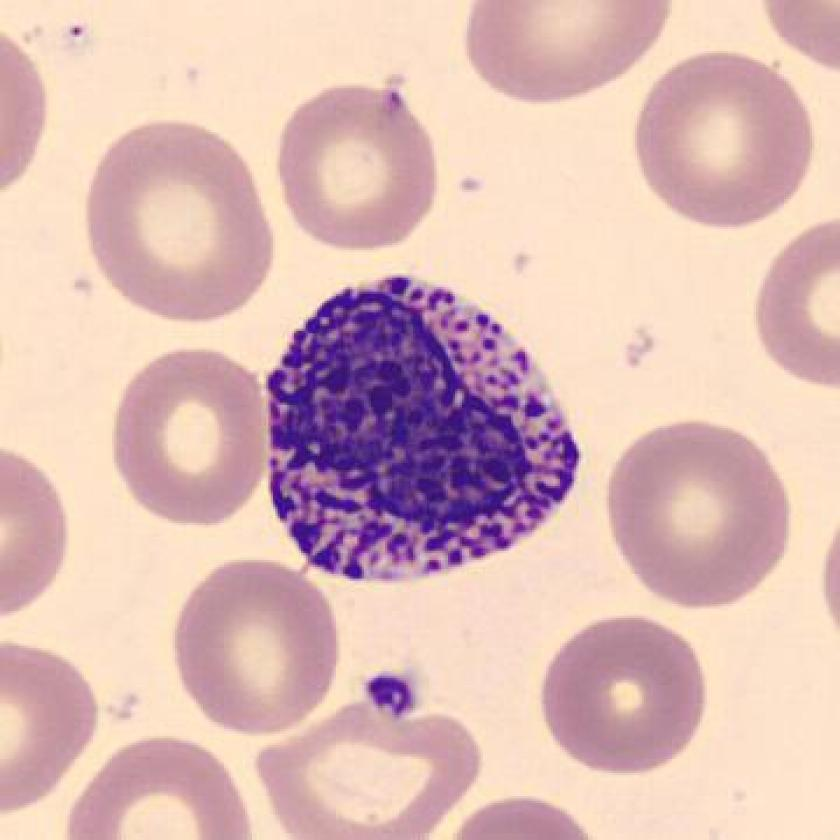basophil: (258, 269, 589, 596)
